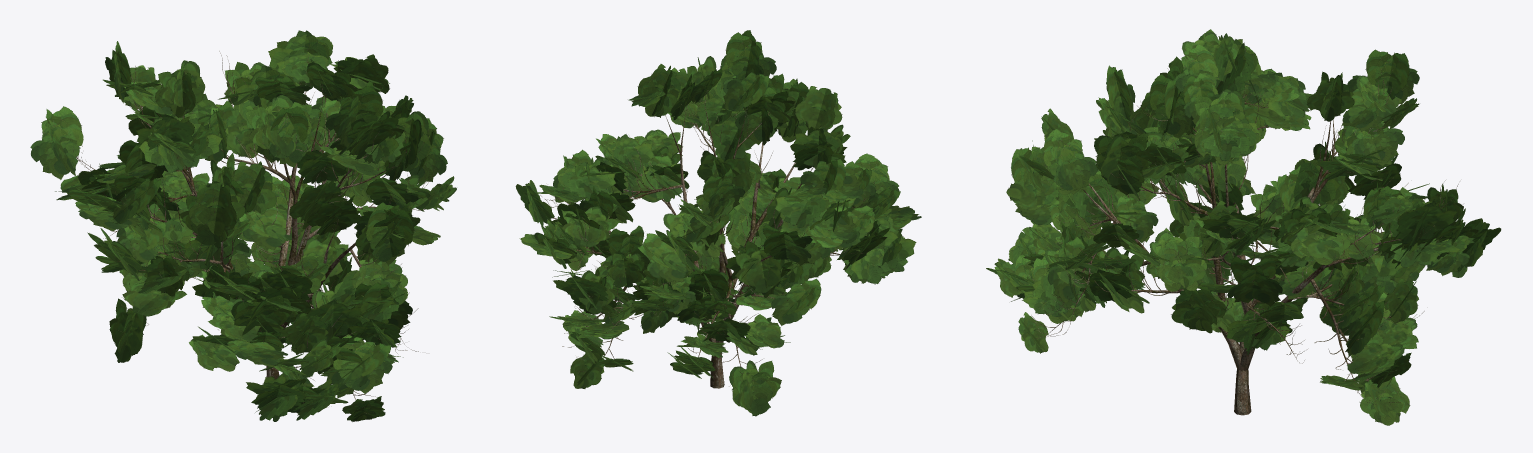
Rendered from prop_oak_real.glb.
The picture shows the model from 3 angles, left to right: view 1: azimuth 30°, elevation 25°; view 2: azimuth 150°, elevation 25°; view 3: azimuth 270°, elevation 25°; orthographic projection. The views are drawn at different scales.
Visible parts, largest first — view 1: tree, leafcard_110, leafcard_093, leafcard_096, leafcard_176, leafcard_205, leafcard_217, leafcard_196, leafcard_134, leafcard_066, leafcard_154, leafcard_010 (+74 smaller); view 2: tree, leafcard_134, leafcard_144, leafcard_205, leafcard_057, leafcard_077, leafcard_082, leafcard_218, leafcard_052, leafcard_110, leafcard_191, leafcard_163 (+60 smaller); view 3: tree, leafcard_123, leafcard_181, leafcard_066, leafcard_007, leafcard_161, leafcard_199, leafcard_193, leafcard_120, leafcard_041, leafcard_122, leafcard_225 (+68 smaller).
Part boxes in pixels (left/top/right/bottom): tree: left=73, top=51, right=433, bottom=413; leafcard_110: left=30, top=106, right=83, bottom=179; leafcard_093: left=326, top=334, right=392, bottom=393; leafcard_096: left=189, top=181, right=245, bottom=236; leafcard_176: left=356, top=202, right=414, bottom=265; leafcard_205: left=325, top=80, right=383, bottom=147; leafcard_217: left=232, top=161, right=277, bottom=214; leafcard_196: left=245, top=95, right=299, bottom=158; leafcard_134: left=109, top=298, right=146, bottom=362; leafcard_066: left=378, top=104, right=431, bottom=171; leafcard_154: left=239, top=206, right=298, bottom=250; leafcard_010: left=231, top=295, right=291, bottom=335; tree: left=539, top=90, right=882, bottom=388; leafcard_134: left=729, top=360, right=781, bottom=416; leafcard_144: left=735, top=240, right=784, bottom=293; leafcard_205: left=725, top=30, right=776, bottom=83; leafcard_057: left=795, top=86, right=842, bottom=131; leafcard_077: left=771, top=278, right=821, bottom=325; leafcard_082: left=638, top=233, right=691, bottom=282; leafcard_218: left=637, top=64, right=680, bottom=117; leafcard_052: left=561, top=206, right=619, bottom=247; leafcard_110: left=762, top=224, right=812, bottom=265; leafcard_191: left=557, top=162, right=615, bottom=199; leafcard_163: left=775, top=187, right=829, bottom=228; tree: left=1029, top=68, right=1483, bottom=415; leafcard_123: left=1042, top=129, right=1097, bottom=194; leafcard_181: left=1149, top=239, right=1207, bottom=291; leafcard_066: left=1094, top=132, right=1152, bottom=186; leafcard_007: left=1227, top=256, right=1282, bottom=306; leafcard_161: left=1365, top=49, right=1419, bottom=104; leafcard_199: left=1171, top=286, right=1226, bottom=333; leafcard_193: left=1359, top=376, right=1410, bottom=425; leafcard_120: left=1396, top=199, right=1457, bottom=250; leafcard_041: left=1291, top=222, right=1350, bottom=265; leafcard_122: left=1196, top=118, right=1261, bottom=160; leafcard_225: left=1149, top=74, right=1191, bottom=137.
Bounding box in the file's own units: 12.64 × 10.86 × 14.69.
2 materials, 2 textured.
